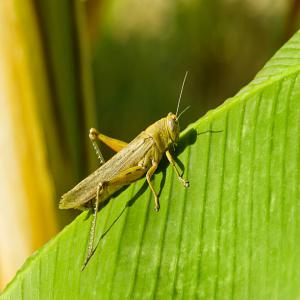locust: (59, 77, 194, 265)
